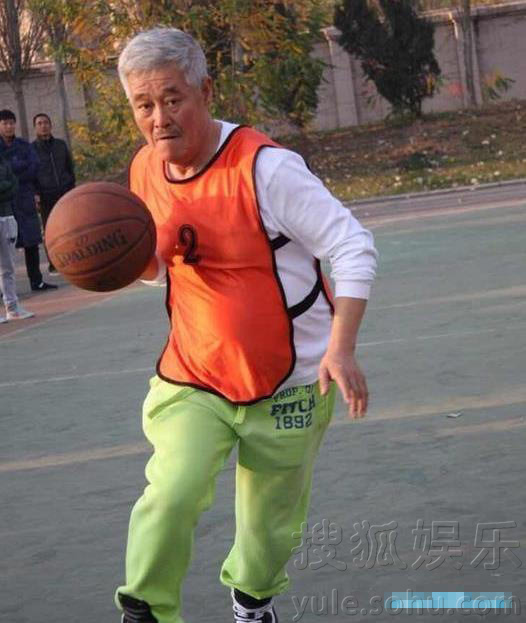ball: (44, 181, 158, 295)
